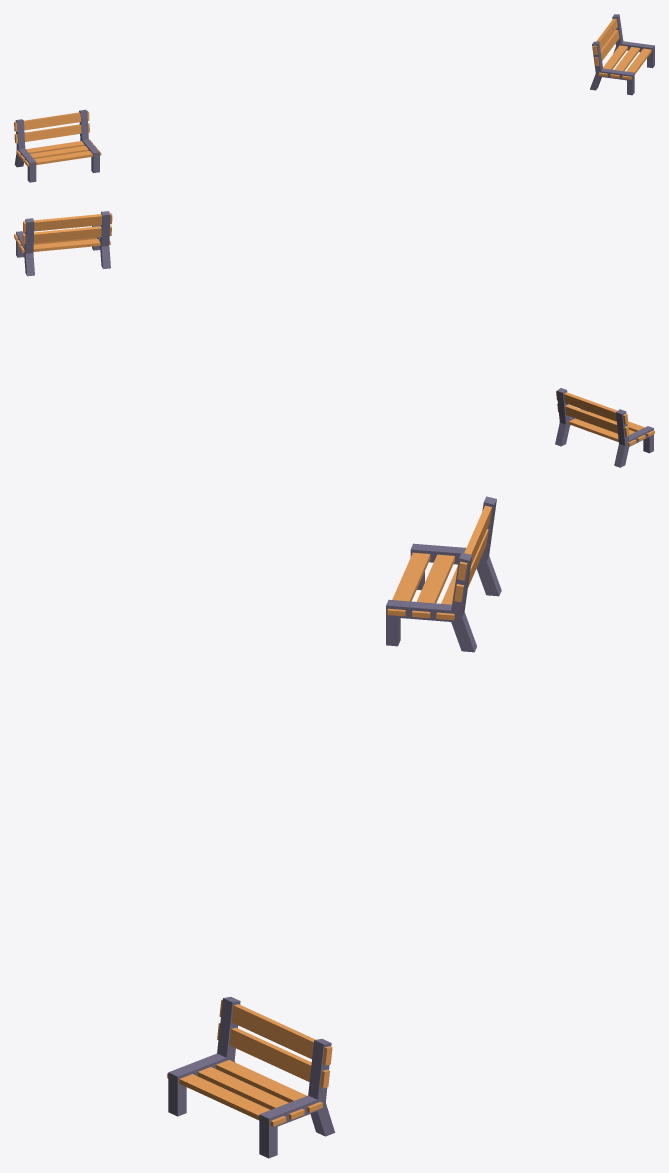
The model's file is bench_final.glb.
The picture shows the model from 3 angles, top to bottom: view 1: azimuth 30°, elevation 25°; view 2: azimuth 150°, elevation 25°; view 3: azimuth 270°, elevation 25°; orthographic projection. The views are drawn at different scales.
Parts seen in each view (by area): view 1: benchPhysicalDynamic, benchPhysicalDynamic.001; view 2: benchPhysicalDynamic.001, benchPhysicalDynamic; view 3: benchPhysicalDynamic.001, benchPhysicalDynamic.
Part boxes in pixels (left/top/right/bottom): benchPhysicalDynamic: left=14, top=109, right=101, bottom=182; benchPhysicalDynamic.001: left=590, top=14, right=654, bottom=95; benchPhysicalDynamic.001: left=14, top=211, right=112, bottom=276; benchPhysicalDynamic: left=555, top=388, right=654, bottom=467; benchPhysicalDynamic.001: left=167, top=996, right=335, bottom=1158; benchPhysicalDynamic: left=386, top=496, right=501, bottom=652.
Bounding box in the file's own units: 20.78 × 1.56 × 5.09.
1 material, 1 textured.
